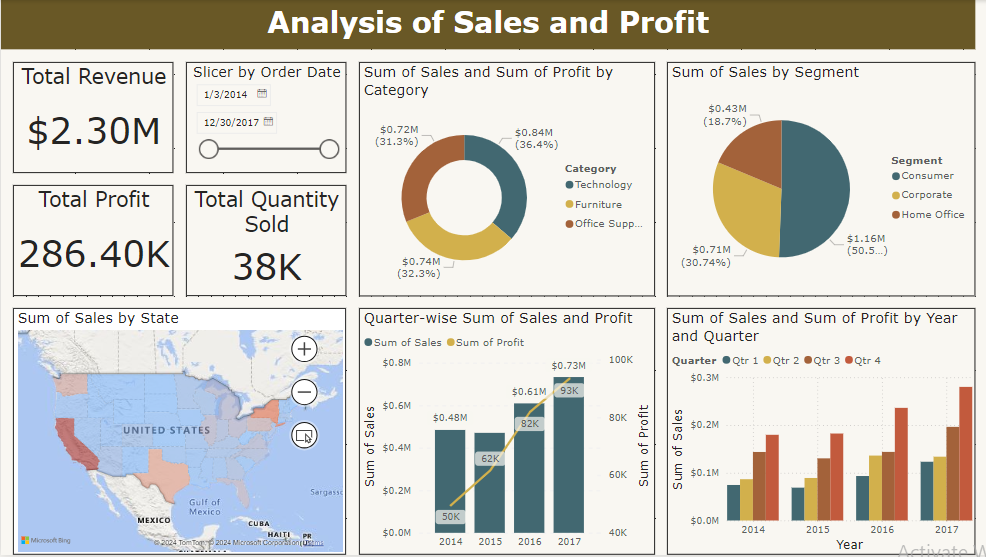

This screenshot's page, from the dashboard's own definition file:
{"tool":"powerbi","page":{"name":"Analysis of Sales and Profit","canvas":[1280,720],"ordinal":0},"visuals":[{"type":"card","title":"Total Revenue","fields":{"Values":["Sum(Orders.Sales)"]},"box":[16,80,208,144],"z":0},{"type":"textbox","box":[0,0,1264,64],"z":1000},{"type":"card","title":"Total Profit","fields":{"Values":["Sum(Orders.Profit)"]},"box":[16,240,208,144],"z":2000},{"type":"card","title":"Total Quantity Sold","fields":{"Values":["Sum(Orders.Quantity)"]},"box":[240,240,208,144],"z":3000},{"type":"donutChart","fields":{"Y":["Sum(Orders.Sales)"],"Category":["Orders.Category"]},"box":[464,80,384,304],"z":4000},{"type":"pieChart","fields":{"Y":["Sum(Orders.Sales)"],"Category":["Orders.Segment"]},"box":[864,80,400,304],"z":5000},{"type":"lineStackedColumnComboChart","title":"Quarter-wise Sum of Sales and Profit","fields":{"Y":["Sum(Orders.Sales)"],"Y2":["Sum(Orders.Profit)"],"Category":["Orders.Order Date.Variation.Date Hierarchy.Year","Orders.Order Date.Variation.Date Hierarchy.Quarter","Orders.Order Date.Variation.Date Hierarchy.Month","Orders.Order Date.Variation.Date Hierarchy.Day"]},"box":[464,400,384,320],"z":6000},{"type":"clusteredColumnChart","fields":{"Category":["Orders.Year"],"Y":["Sum(Orders.Sales)"],"Series":["Orders.Quarter"]},"box":[864,400,400,320],"z":7000},{"type":"filledMap","fields":{"Category":["Orders.State"]},"box":[16,400,432,320],"z":8000},{"type":"slicer","title":"Slicer by Order Date","fields":{"Values":["Orders.Order Date"]},"box":[240,80,208,144],"z":9000}]}

Visuals, with their boxes in screenshot pixels (x1, y1, x2, y2), scaled from the page's 1280x720 canvas onto the 986x557 screenshot:
"Total Revenue" card: bbox(12, 62, 173, 173)
textbox: bbox(0, 0, 974, 50)
"Total Profit" card: bbox(12, 186, 173, 297)
"Total Quantity Sold" card: bbox(185, 186, 345, 297)
donutChart - Sum(Orders.Sales) x Orders.Category: bbox(357, 62, 653, 297)
pieChart - Sum(Orders.Sales) x Orders.Segment: bbox(666, 62, 974, 297)
"Quarter-wise Sum of Sales and Profit" lineStackedColumnComboChart: bbox(357, 309, 653, 556)
clusteredColumnChart - Orders.Year x Sum(Orders.Sales): bbox(666, 309, 974, 556)
filledMap - Orders.State: bbox(12, 309, 345, 556)
"Slicer by Order Date" slicer: bbox(185, 62, 345, 173)
